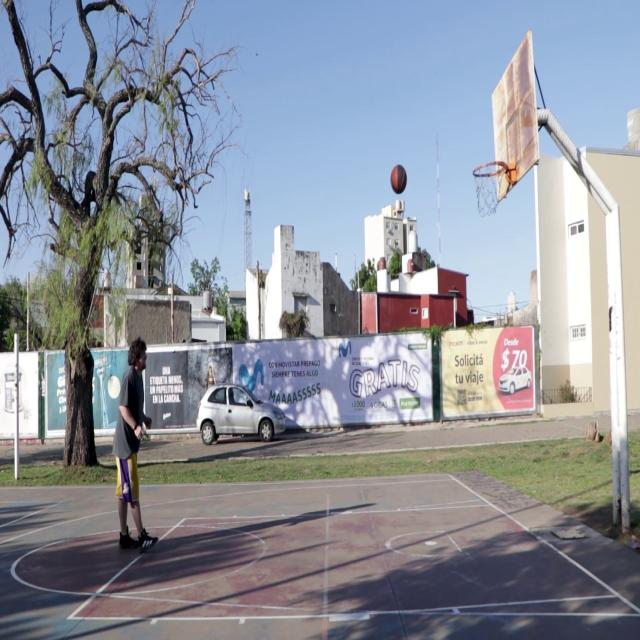ball: (390, 164, 407, 195)
